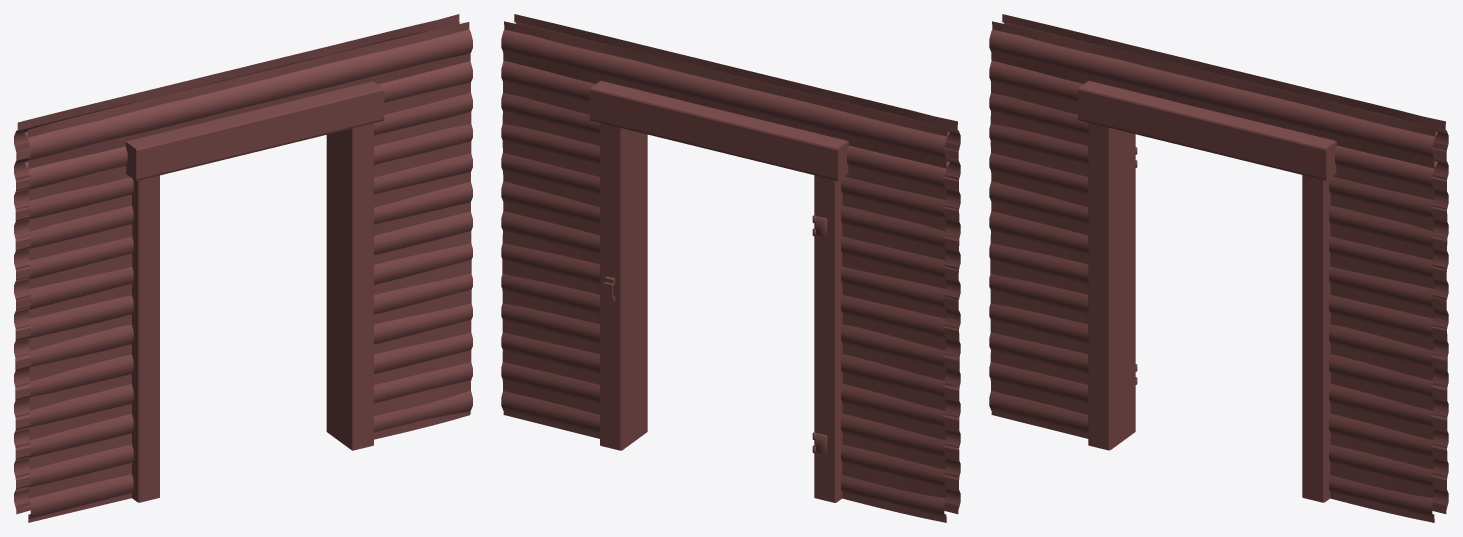
File: Wall_Door.fbx
3 renders of one model, left to right at view 1: azimuth 30°, elevation 25°; view 2: azimuth 150°, elevation 25°; view 3: azimuth 330°, elevation 25°, orthographic.
Parts seen in each view (by area): view 1: Wall_Door017; view 2: Wall_Door017; view 3: Wall_Door017.
Part boxes in pixels (<box>): Wall_Door017: <box>14,14,472,522</box>; Wall_Door017: <box>501,14,960,522</box>; Wall_Door017: <box>989,14,1448,522</box>.
Size of the model in its own units: 300 by 255 by 40.
